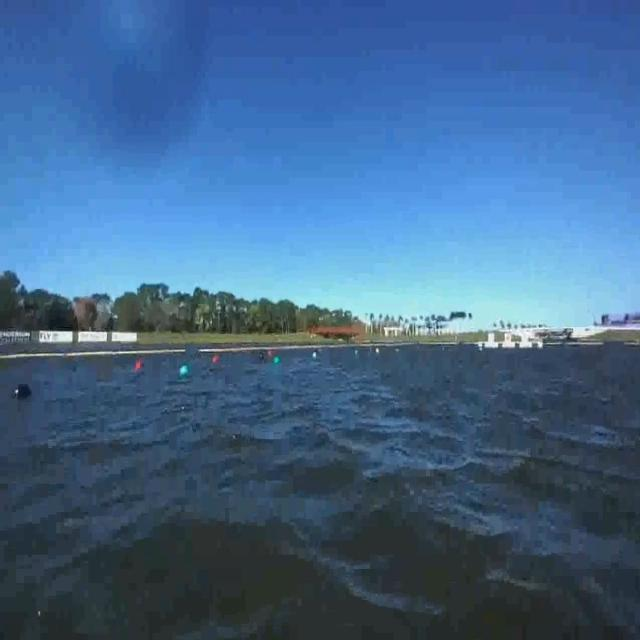black-buoy: (13, 378, 35, 411)
green-buoy: (182, 363, 192, 377)
red-buoy: (136, 360, 144, 370)
